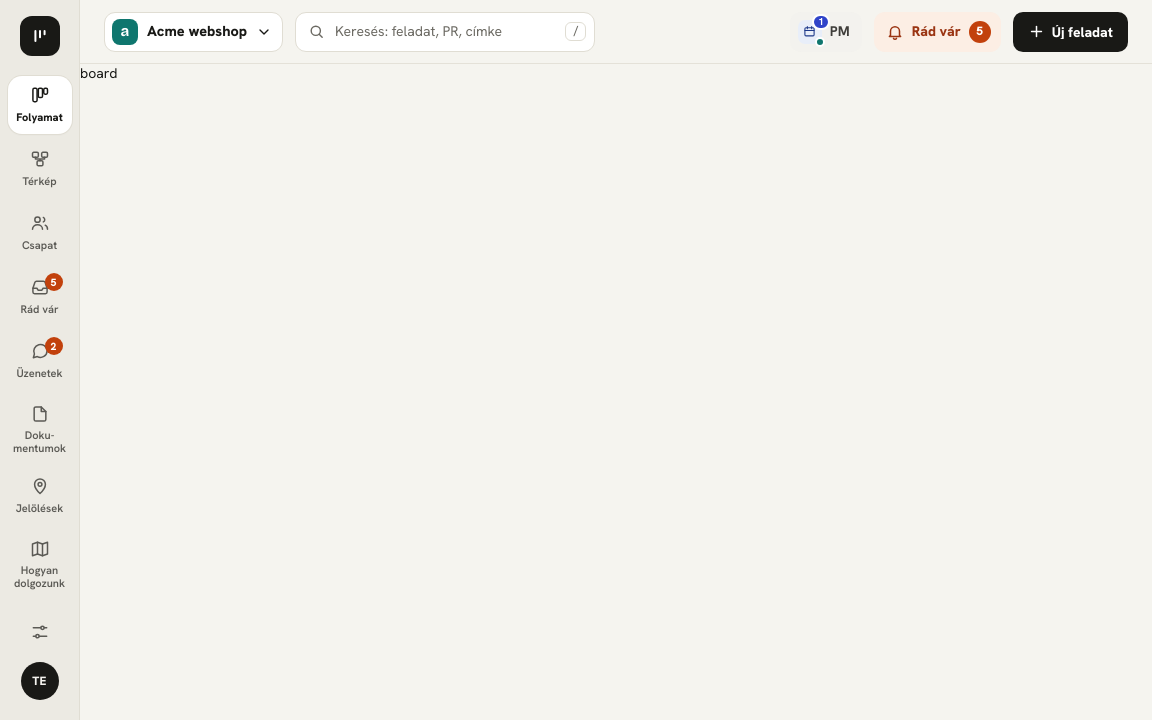
Test case: the Sor view › says it could not load the queue and tries again on "Újra"
Click the button "1 PM" at x=826, y=32, box [790, 12, 862, 52]
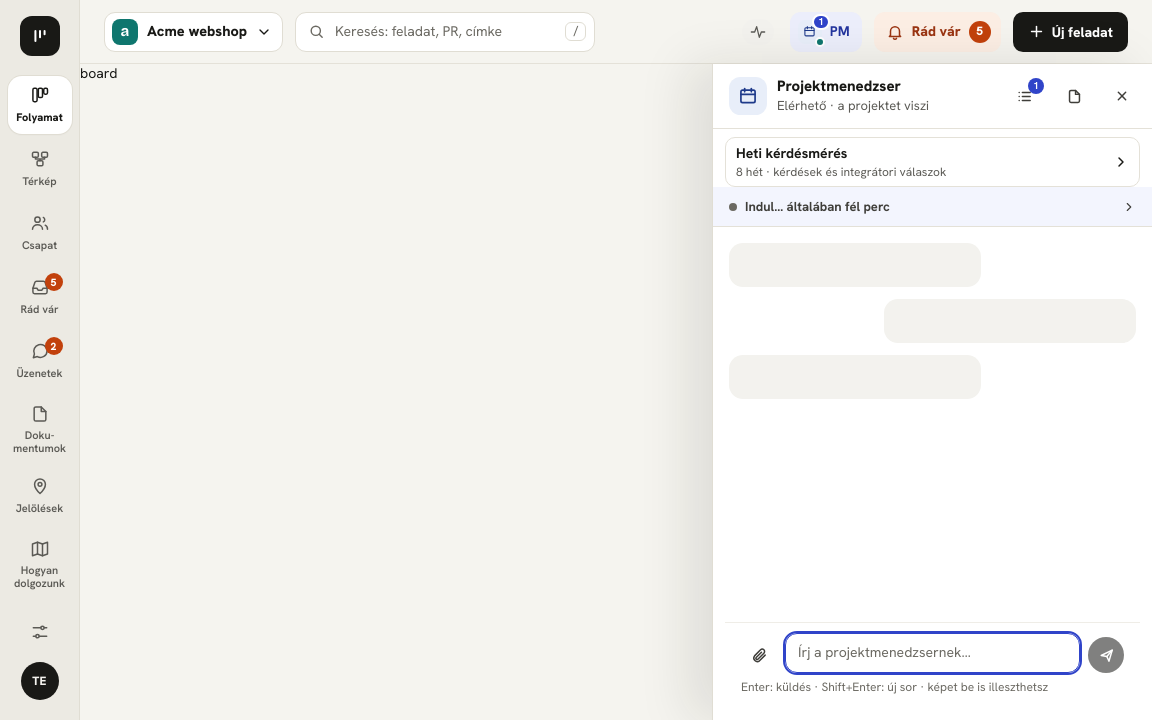
Click the button named "A projektmenedzser sora · 1 tétel" at x=1024, y=96, box [1004, 76, 1044, 116]
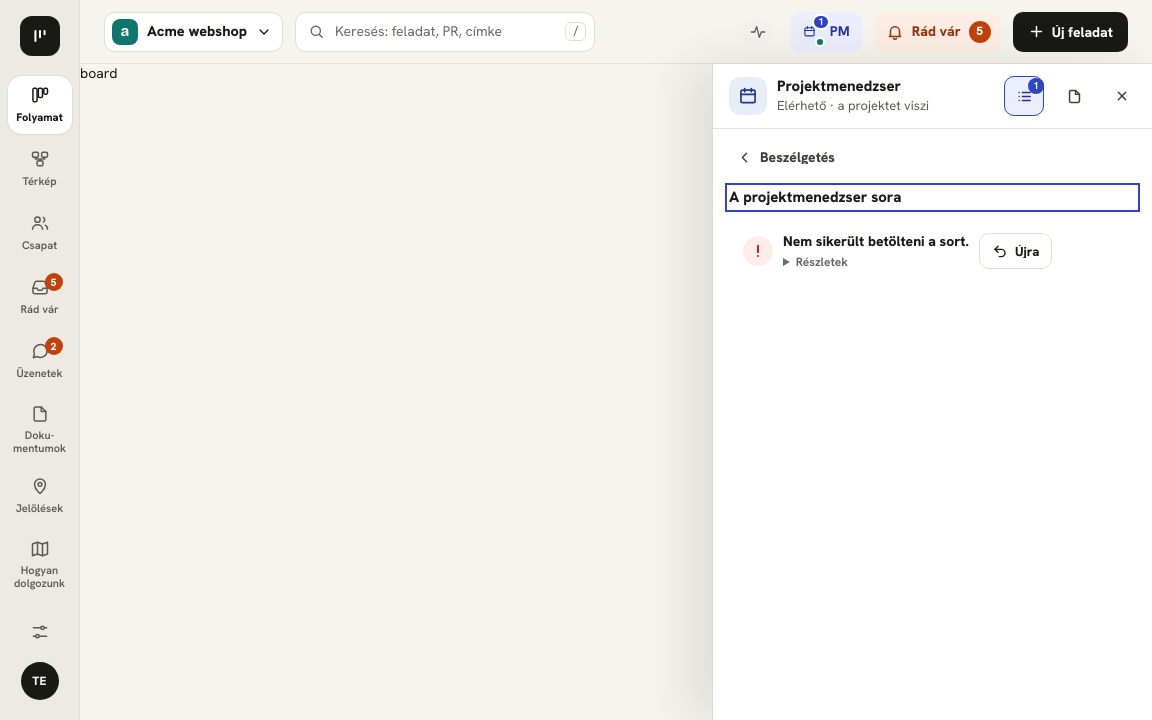
Expected: the heading "A projektmenedzser sora" is shown, [729, 187, 901, 207]
Expected: the text "Nem sikerült betölteni a sort." is shown, [783, 232, 969, 252]
Click the button "Újra" at x=1016, y=251, box [979, 233, 1052, 269]
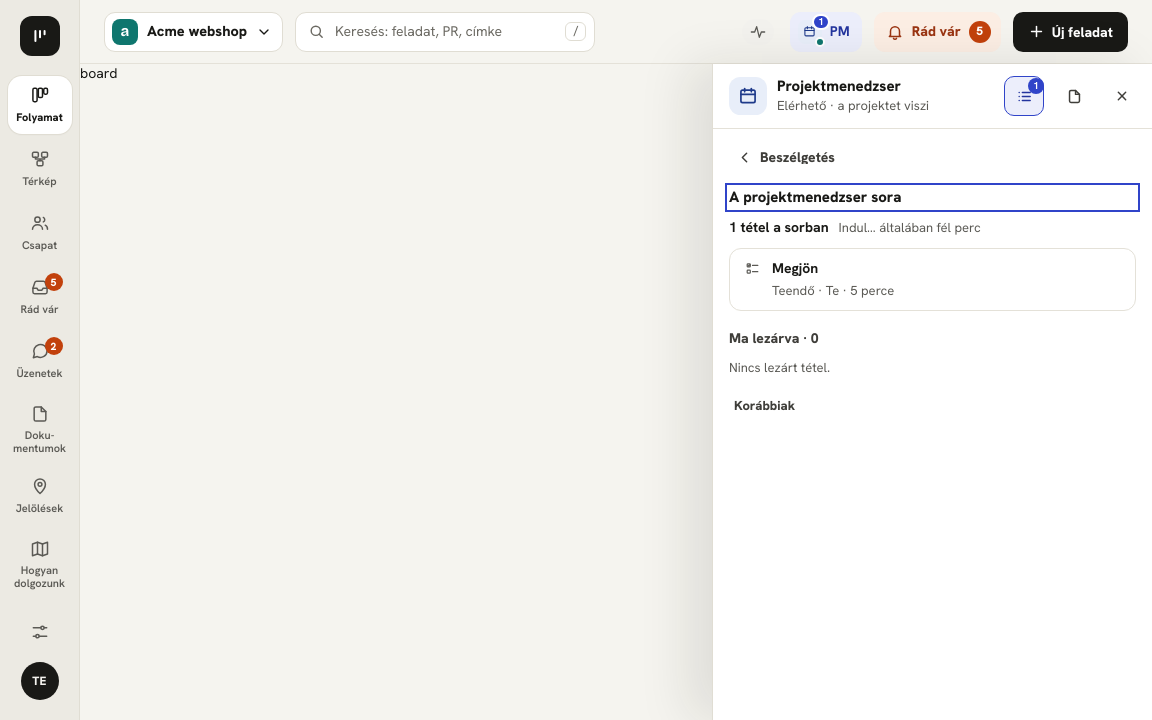
Expected: the text "Megjön" is shown, [772, 259, 818, 277]
